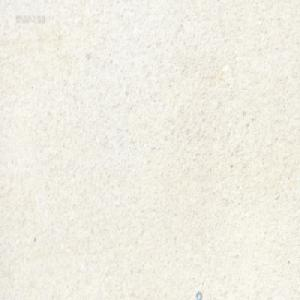Washer: (196, 290, 202, 299)
